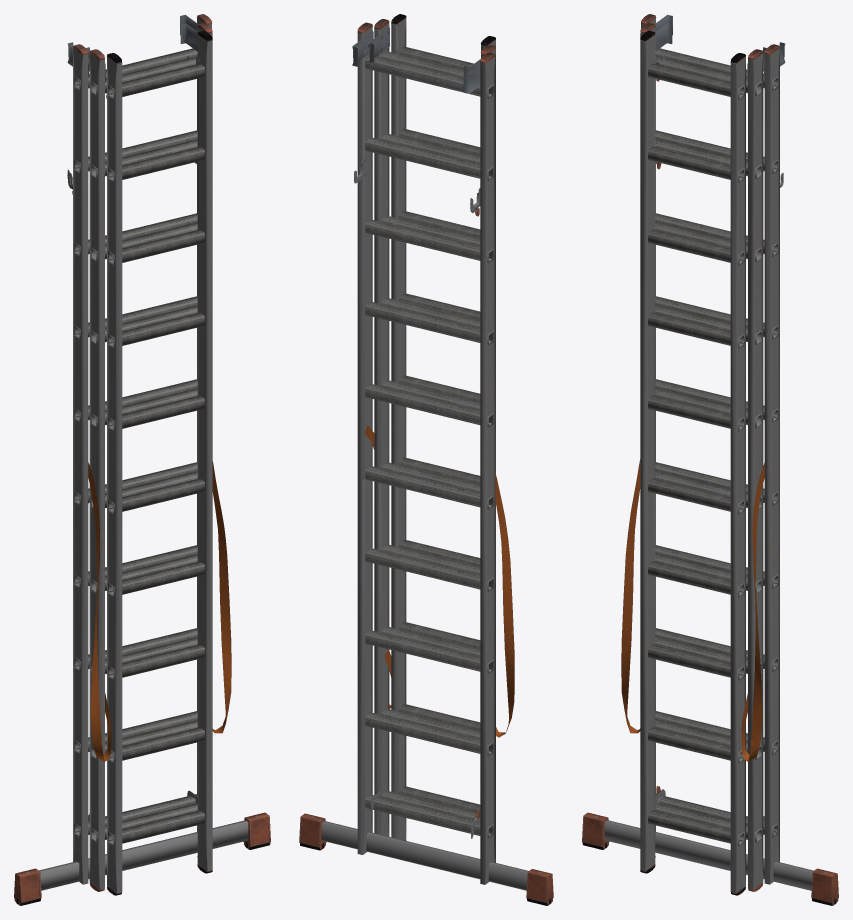
The model's file is ph_ladder.gltf.
3 views of the same model, side by side, from view 1: azimuth 30°, elevation 25°; view 2: azimuth 150°, elevation 25°; view 3: azimuth 330°, elevation 25° (orthographic).
Visible parts, largest first — view 1: Body; view 2: Body; view 3: Body.
Boxes of the visible parts, x1=… form: Body: x1=14, y1=14, x2=270, y2=905; Body: x1=299, y1=14, x2=553, y2=905; Body: x1=582, y1=14, x2=838, y2=905.
Bounding box in the file's own units: 0.6615 × 2.13 × 0.1777.
1 material, 1 textured.
